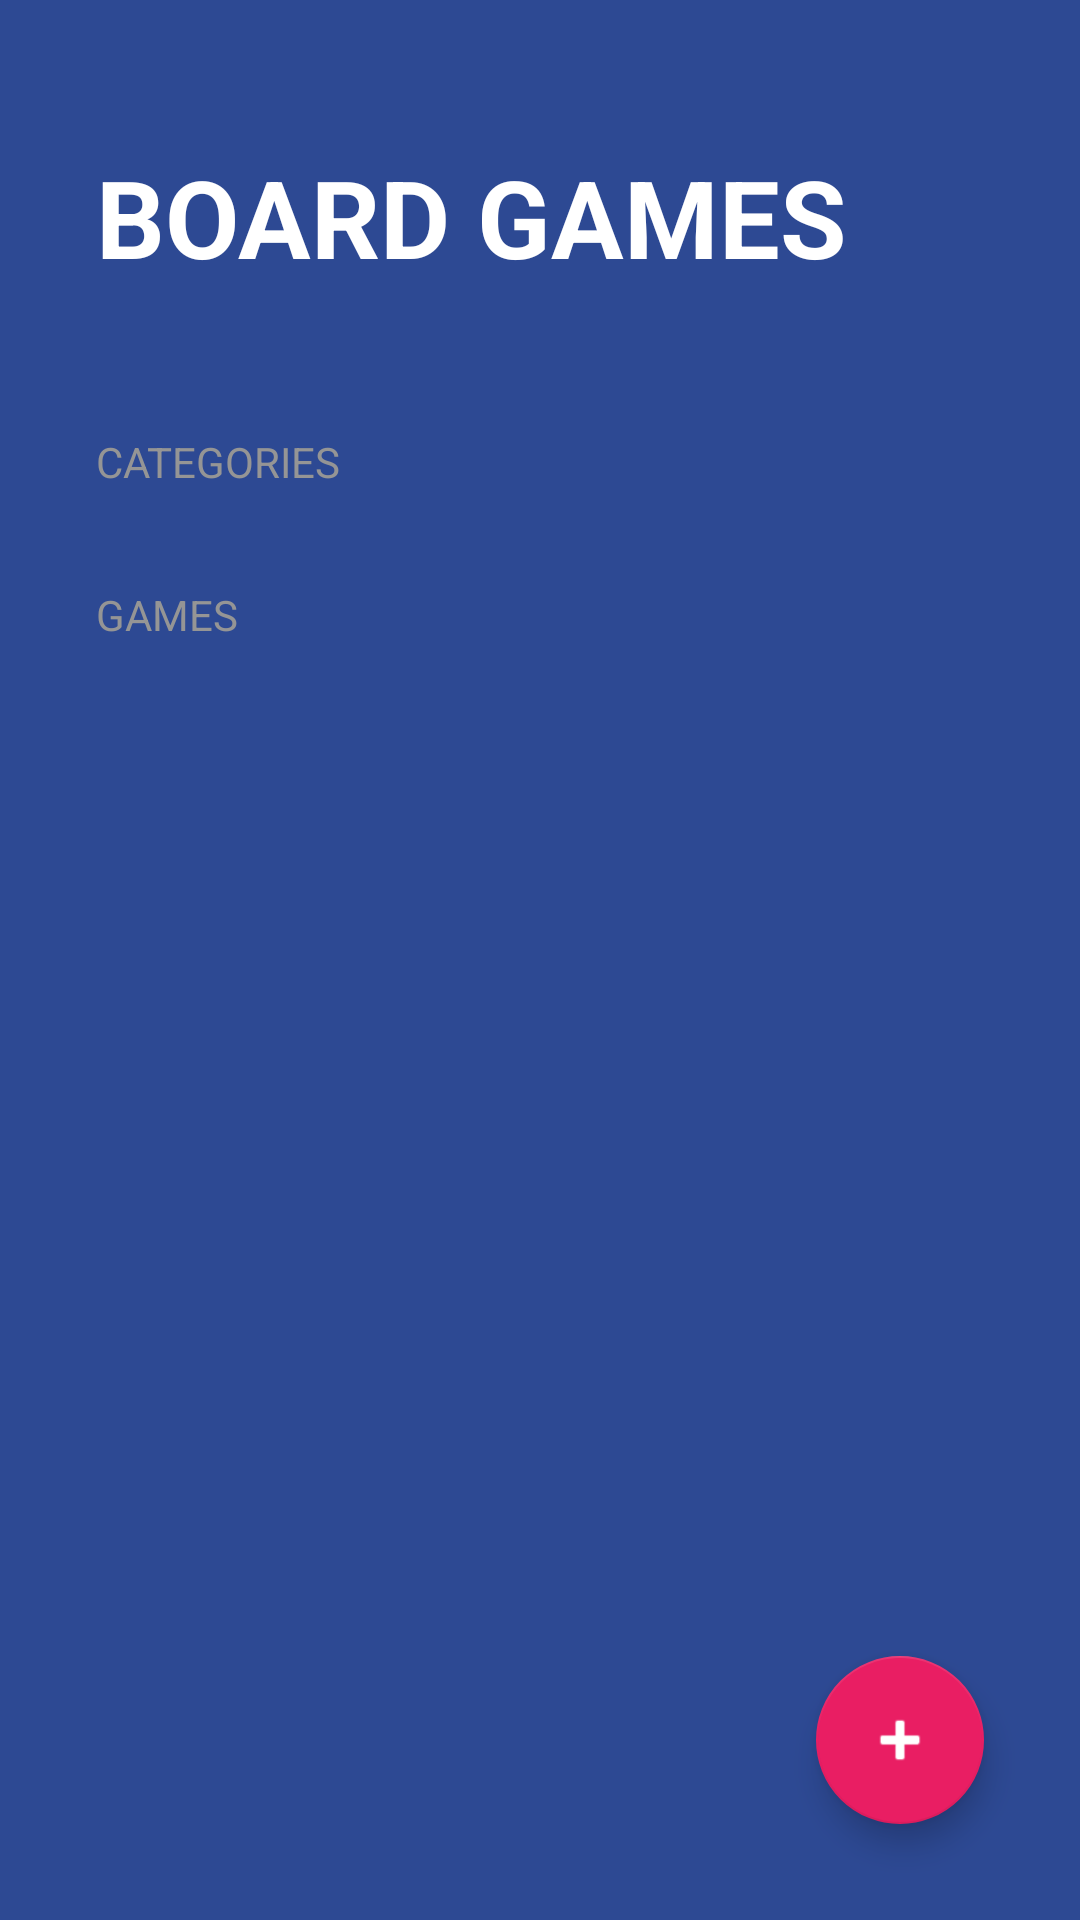

Locate icon controls on the screen. Image size 1080 x 1920, boxes as (x1, y1, x2, y2).
Añade un juego: (816, 1656, 984, 1824)
